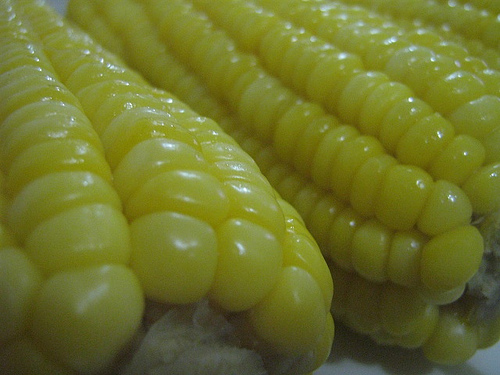corn: (66, 0, 499, 369), (0, 0, 335, 374), (30, 263, 145, 370), (125, 213, 218, 308), (422, 227, 483, 296)
